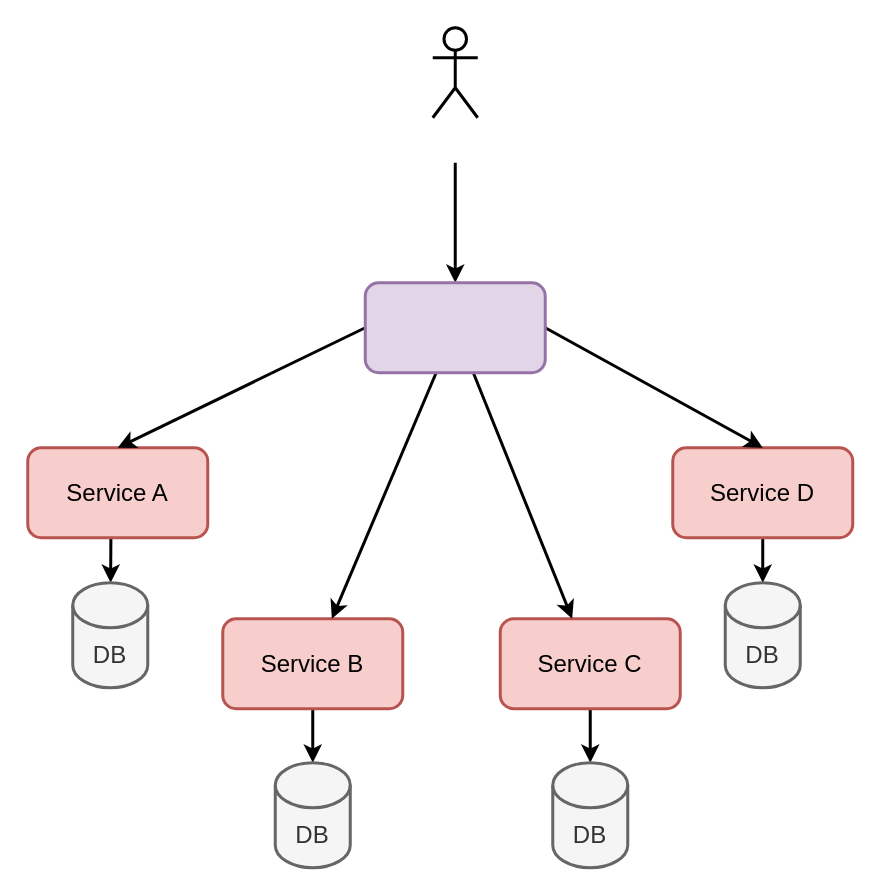
This 879x894 diagram has some shape labels left out. Each missing label, with the centre of its shape:
Aggregation Service: (454,327)
USER: (454,72)
